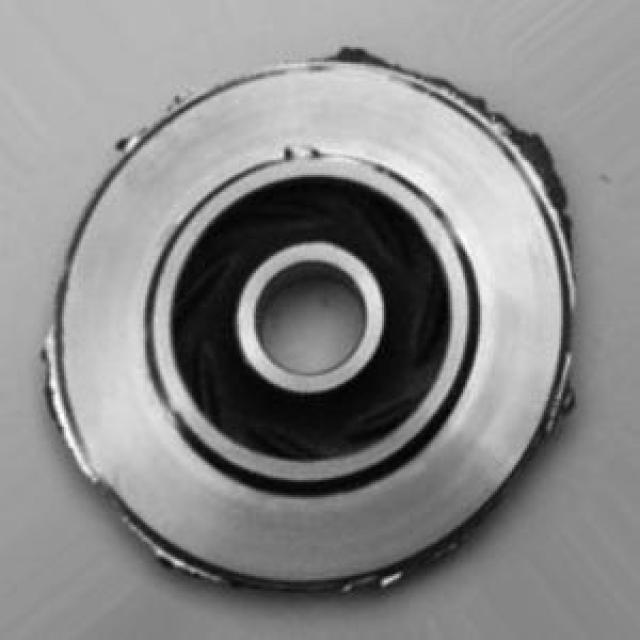Defect: (509, 121, 560, 212)
